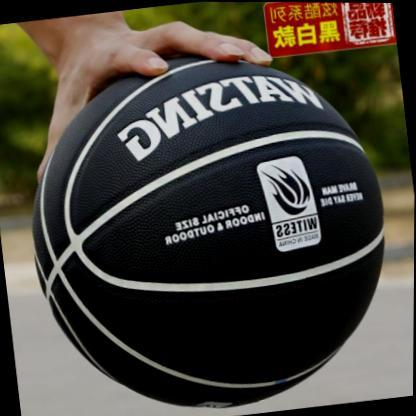basketball: (11, 41, 405, 416)
